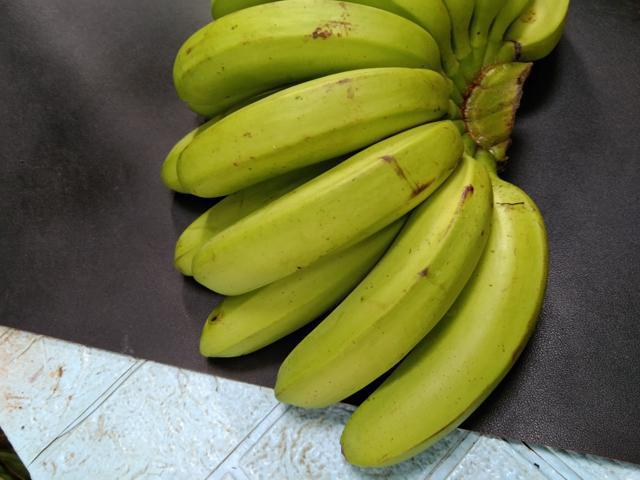freshunripe: (331, 173, 563, 479), (192, 253, 370, 364)
unripe: (183, 118, 464, 291), (178, 64, 444, 206), (167, 0, 432, 121)
